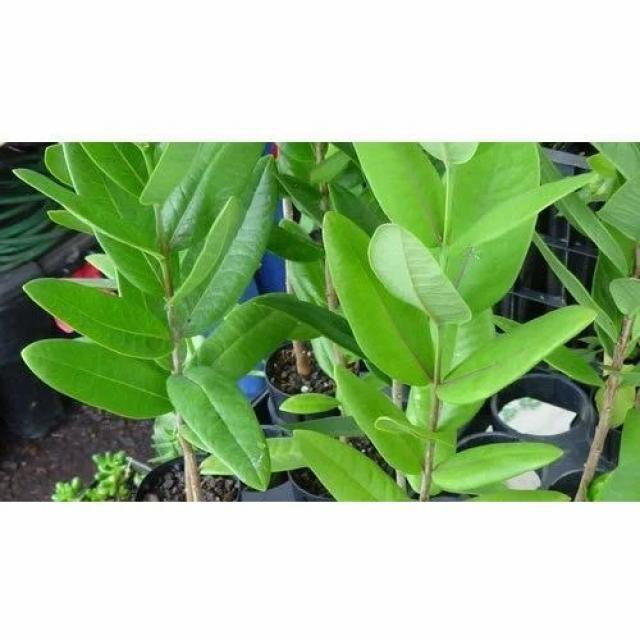Medicinal-Sandalwood: (17, 141, 640, 504)
